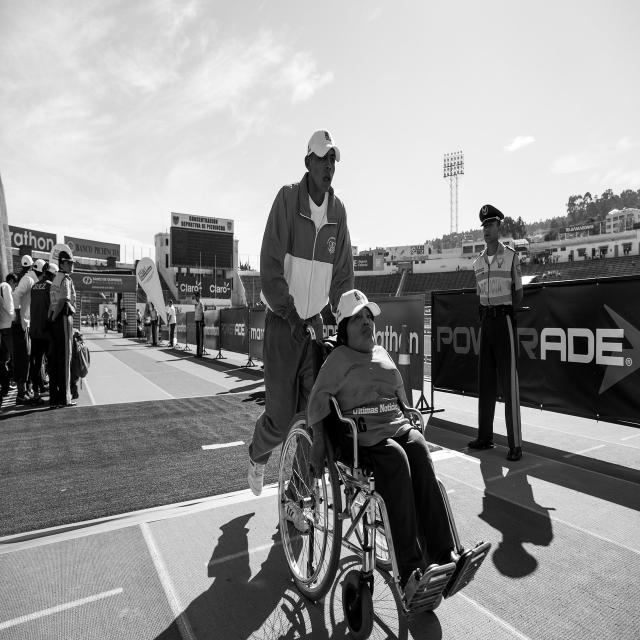wheelchairs: (277, 325, 489, 622)
